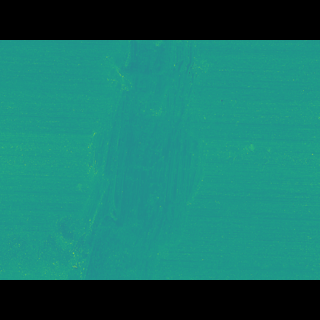Loch: (57, 69, 210, 249)
